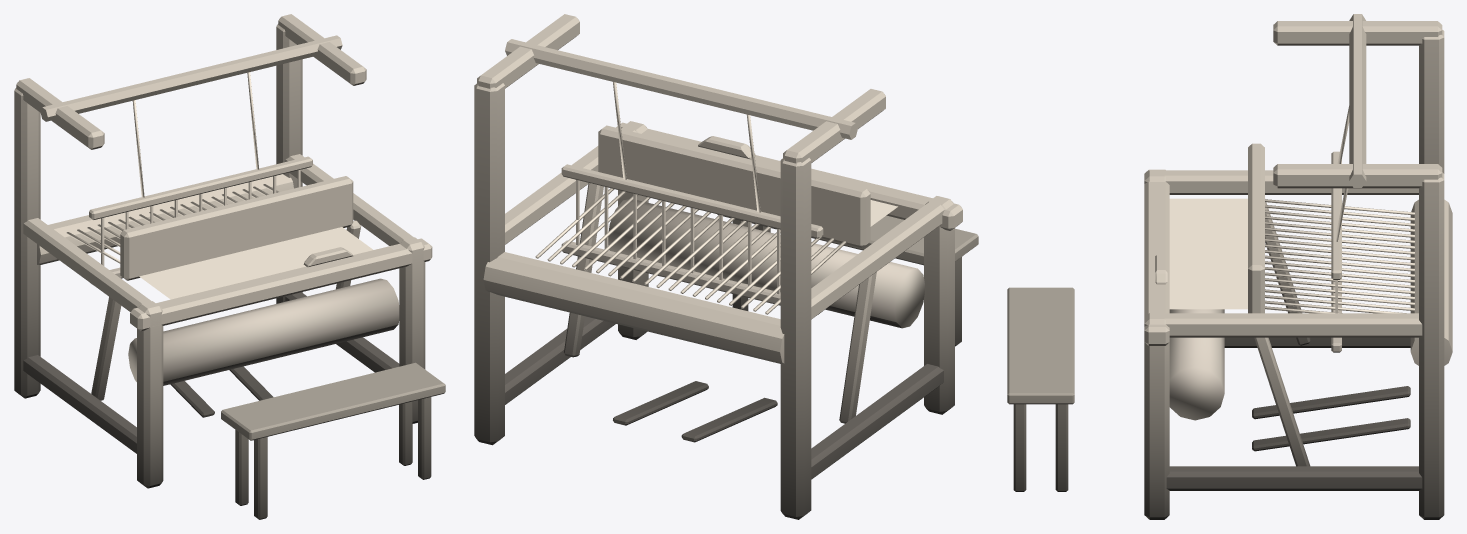
File: SM_VK_Prop_Loom.fbx
3 renders of one model, left to right at view 1: azimuth 30°, elevation 25°; view 2: azimuth 150°, elevation 25°; view 3: azimuth 270°, elevation 25°, orthographic. The views are drawn at different scales.
Visible parts, largest first — view 1: SM_VK_Prop_Loom.001; view 2: SM_VK_Prop_Loom.001; view 3: SM_VK_Prop_Loom.001.
Part boxes in pixels (x1,y1,x2,y2): SM_VK_Prop_Loom.001: [14, 14, 445, 519]; SM_VK_Prop_Loom.001: [474, 14, 978, 519]; SM_VK_Prop_Loom.001: [1007, 14, 1452, 519].
Size of the model in its own units: 1.8 by 1.83 by 2.11.
